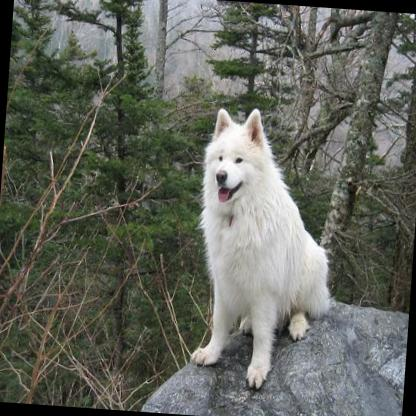Samoyed: (183, 102, 344, 396)
